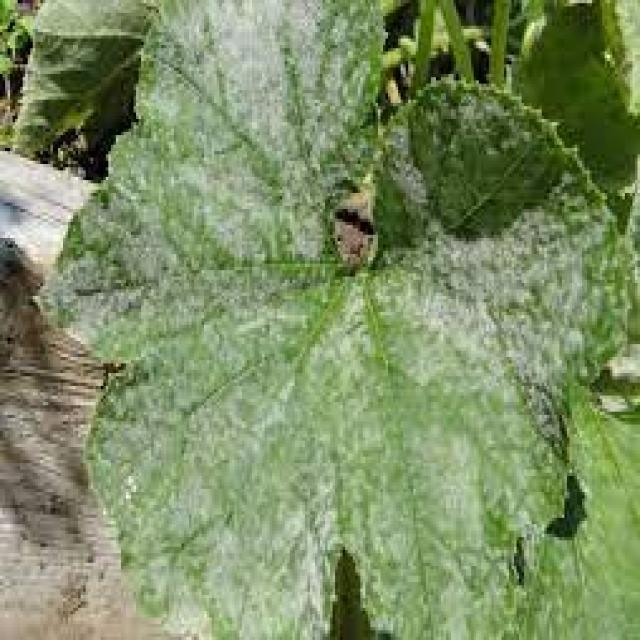powdery-mildew: (167, 0, 312, 634), (407, 196, 592, 494)
